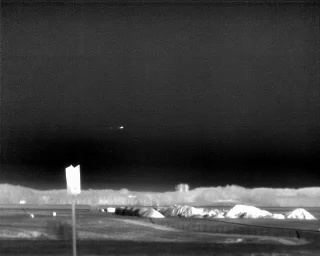BIRD: (118, 123, 125, 131)
